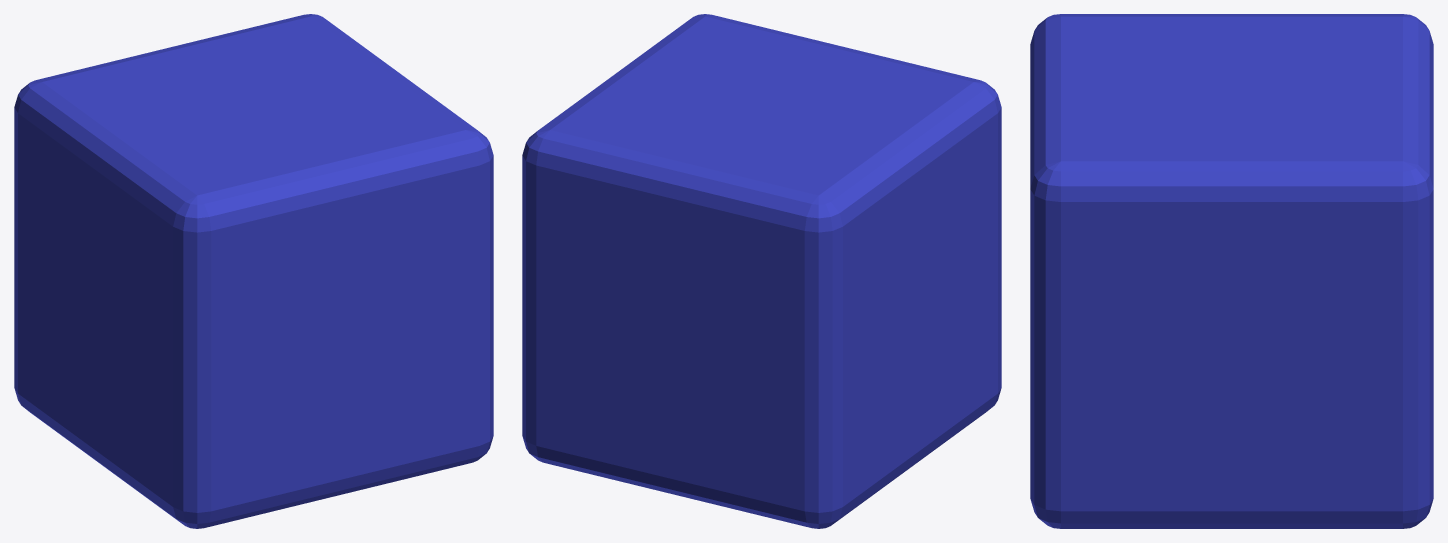
3 views of the same model, side by side, from view 1: azimuth 30°, elevation 25°; view 2: azimuth 150°, elevation 25°; view 3: azimuth 270°, elevation 25° (orthographic). The views are drawn at different scales.
Bounding box in the file's own units: 0.1 × 0.0998 × 0.1.
